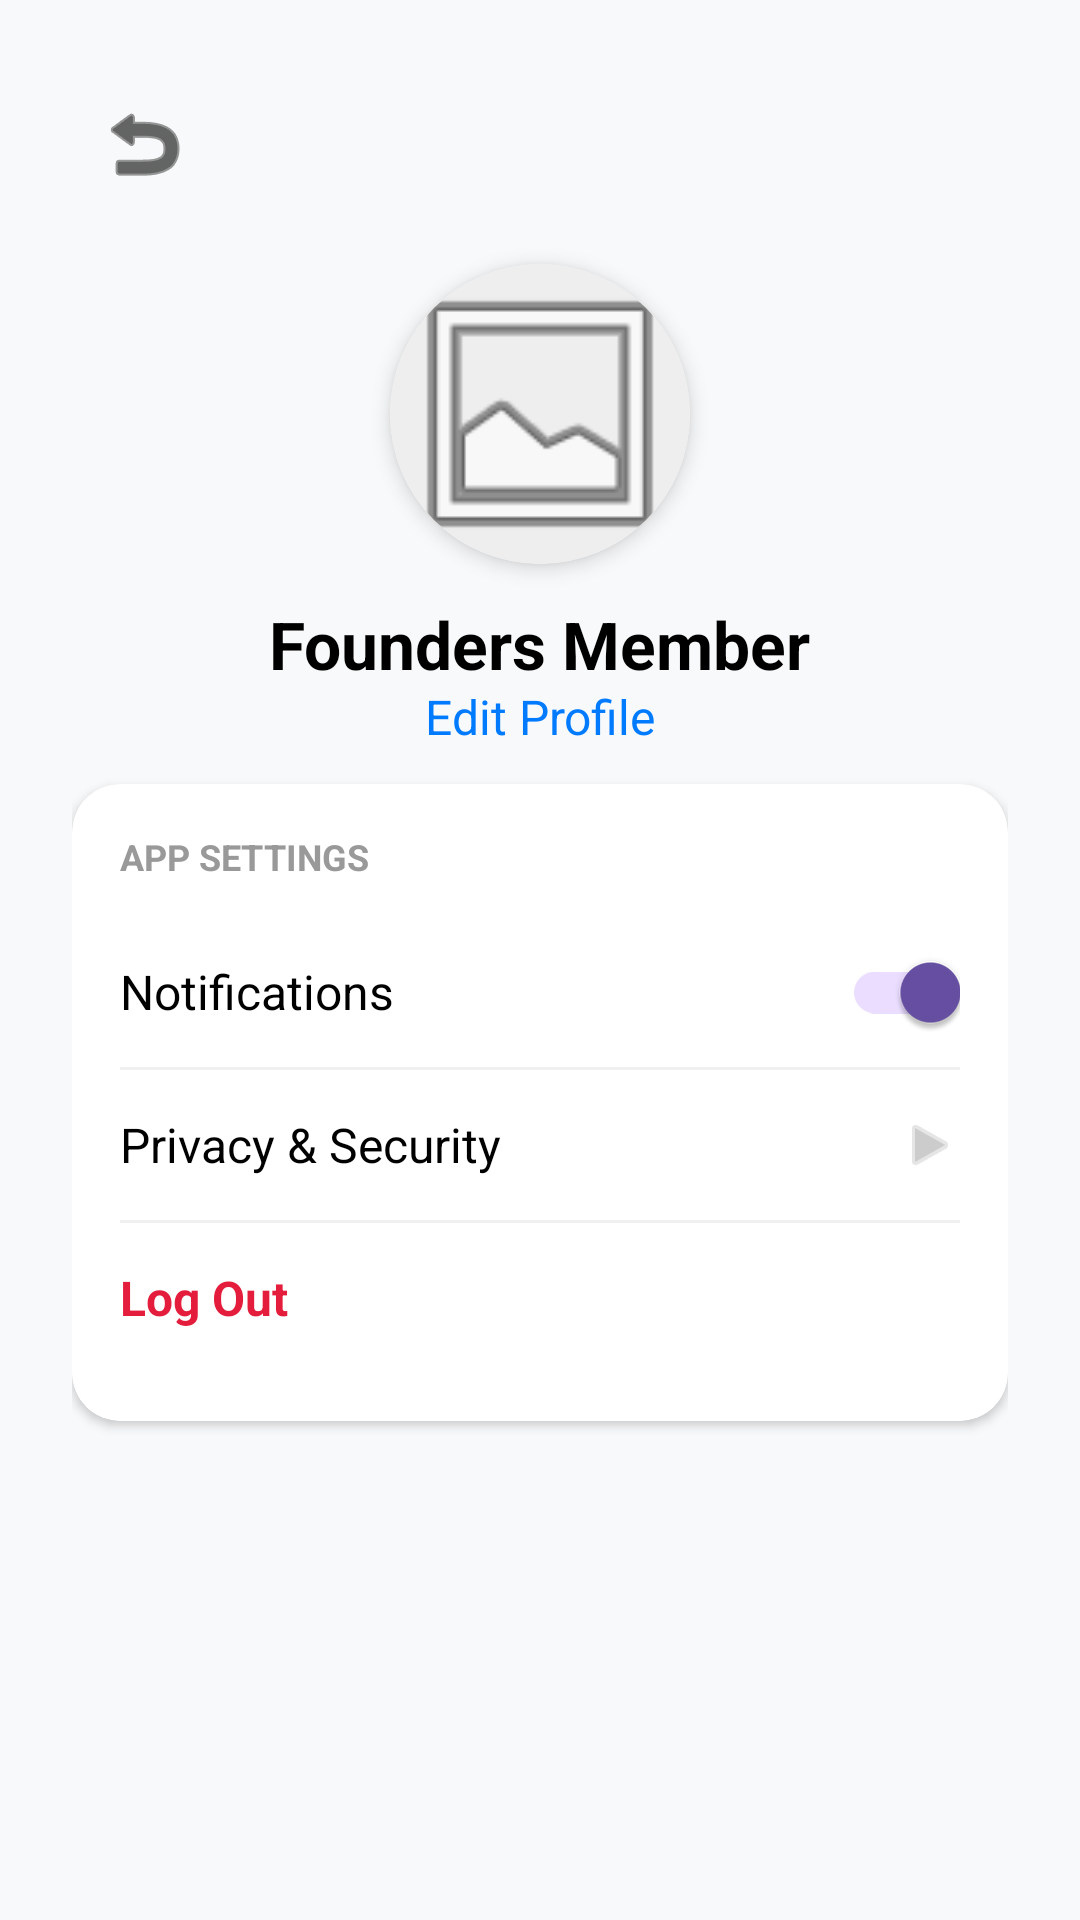

Icon bounding boxes for this 1080x1920 phone screenshot, format (x1, y1, x2, y2):
gallery: (406, 300, 674, 564)
play: (912, 1125, 948, 1165)
revert: (111, 113, 180, 176)
